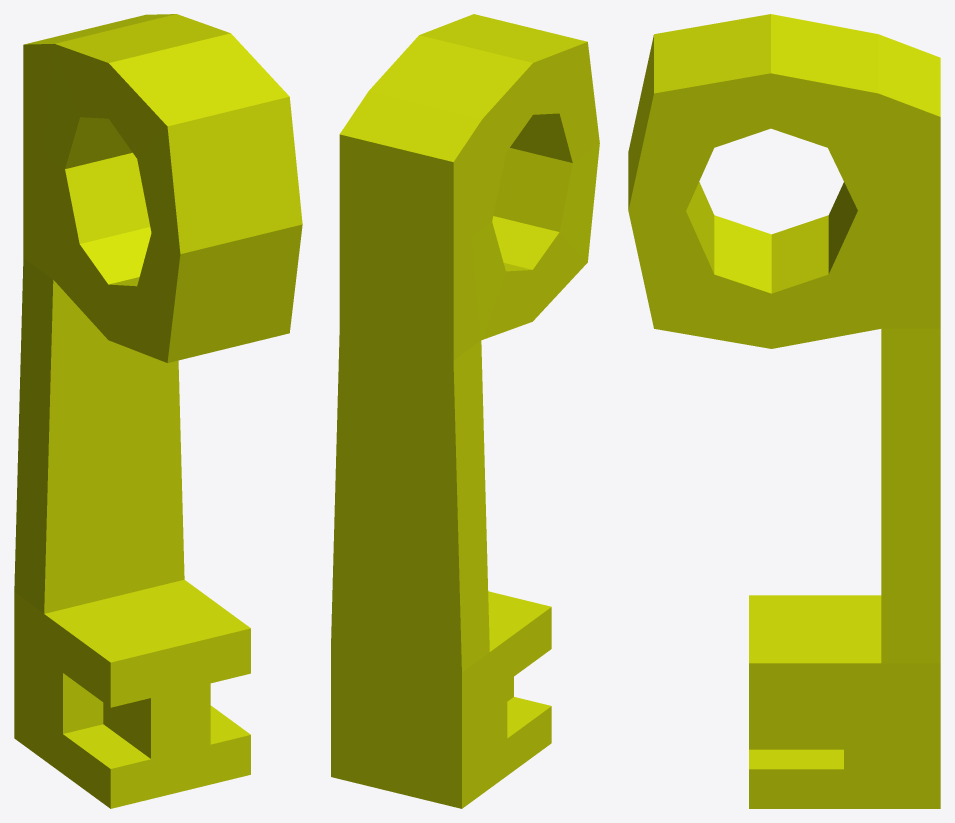
Rendered from key.fbx.
The picture shows the model from 3 angles, left to right: view 1: azimuth 30°, elevation 25°; view 2: azimuth 150°, elevation 25°; view 3: azimuth 270°, elevation 25°; orthographic projection. The views are drawn at different scales.
Visible parts, largest first — view 1: key; view 2: key; view 3: key.
Part boxes in pixels (x1,y1,x2,y2): key: [14, 14, 302, 808]; key: [331, 14, 599, 808]; key: [628, 14, 940, 808].
Size of the model in its own units: 37.33 by 187 by 72.31.
